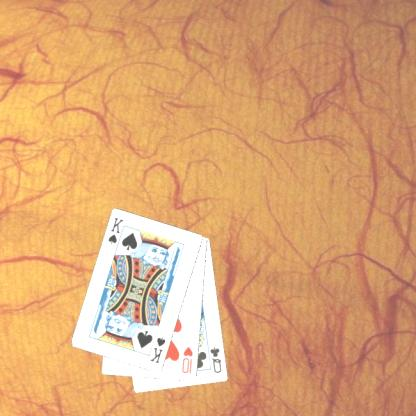10H: (179, 344, 195, 375)
KS: (105, 215, 127, 250), (147, 334, 167, 365)
QC: (208, 344, 224, 374)
